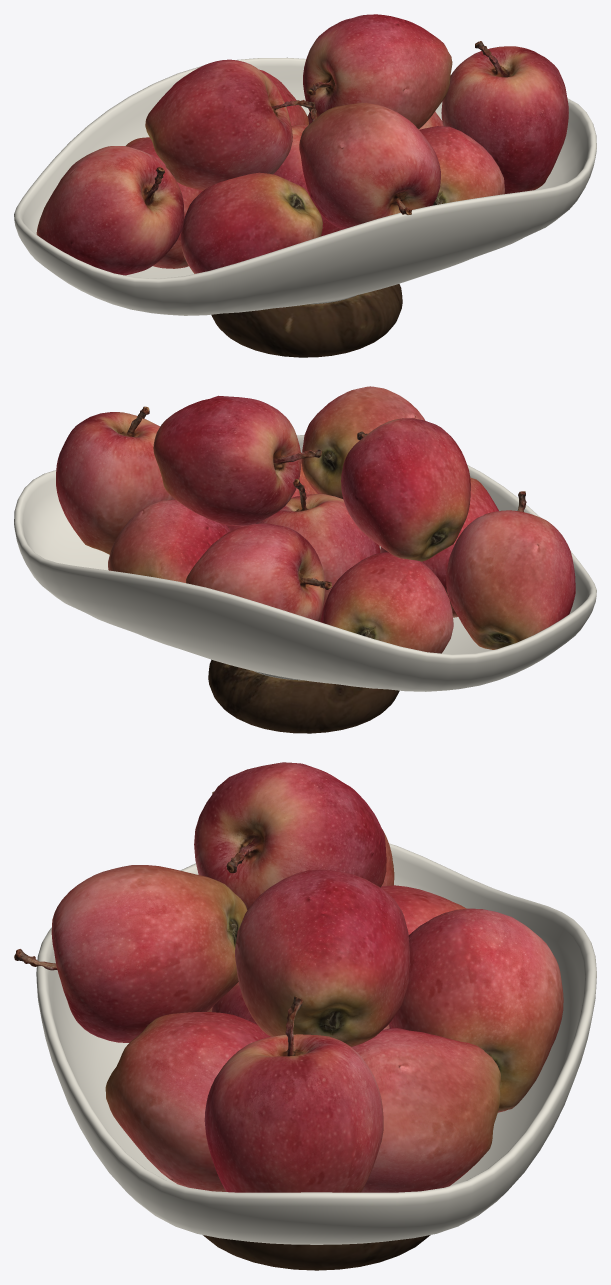
Rendered from apple.fbx.
3 views of the same model, one above another, from view 1: azimuth 30°, elevation 25°; view 2: azimuth 150°, elevation 25°; view 3: azimuth 270°, elevation 25° (orthographic). The views are drawn at different scales.
Parts seen in each view (by area): view 1: tray, apple_11, apple_08, apple_07, apple_09, apple_10, apple_05, apple_03, apple_01, apple_04, apple_06; view 2: tray, apple_10, apple_11, apple_08, apple_09, apple_04, apple_06, apple_02, apple_07, apple_01, apple_05; view 3: tray, apple_07, apple_09, apple_10, apple_06, apple_11, apple_02, apple_03, apple_04, apple_01.
Boxes of the visible parts, bbox=[...] form: tray: bbox=[14, 57, 596, 357]; apple_11: bbox=[145, 59, 314, 190]; apple_08: bbox=[36, 146, 184, 275]; apple_07: bbox=[299, 102, 440, 229]; apple_09: bbox=[441, 41, 568, 193]; apple_10: bbox=[303, 14, 452, 129]; apple_05: bbox=[180, 172, 322, 273]; apple_03: bbox=[419, 126, 504, 205]; apple_01: bbox=[273, 103, 341, 236]; apple_04: bbox=[125, 137, 202, 268]; apple_06: bbox=[259, 69, 308, 125]; tray: bbox=[14, 435, 596, 733]; apple_10: bbox=[153, 395, 321, 525]; apple_11: bbox=[341, 418, 470, 561]; apple_08: bbox=[446, 491, 575, 649]; apple_09: bbox=[56, 406, 175, 554]; apple_04: bbox=[320, 552, 453, 653]; apple_06: bbox=[186, 523, 331, 621]; apple_02: bbox=[108, 499, 230, 582]; apple_07: bbox=[301, 386, 425, 498]; apple_01: bbox=[255, 479, 380, 621]; apple_05: bbox=[380, 477, 498, 617]; tray: bbox=[36, 843, 596, 1270]; apple_07: bbox=[14, 865, 247, 1042]; apple_09: bbox=[204, 996, 383, 1192]; apple_10: bbox=[235, 869, 409, 1046]; apple_06: bbox=[390, 908, 563, 1112]; apple_11: bbox=[194, 762, 386, 909]; apple_02: bbox=[351, 1027, 500, 1192]; apple_03: bbox=[105, 1012, 270, 1191]; apple_04: bbox=[380, 885, 466, 1028]; apple_01: bbox=[212, 982, 389, 1029].
Bounding box in the file's own units: 33.65 × 17.1 × 22.61.
